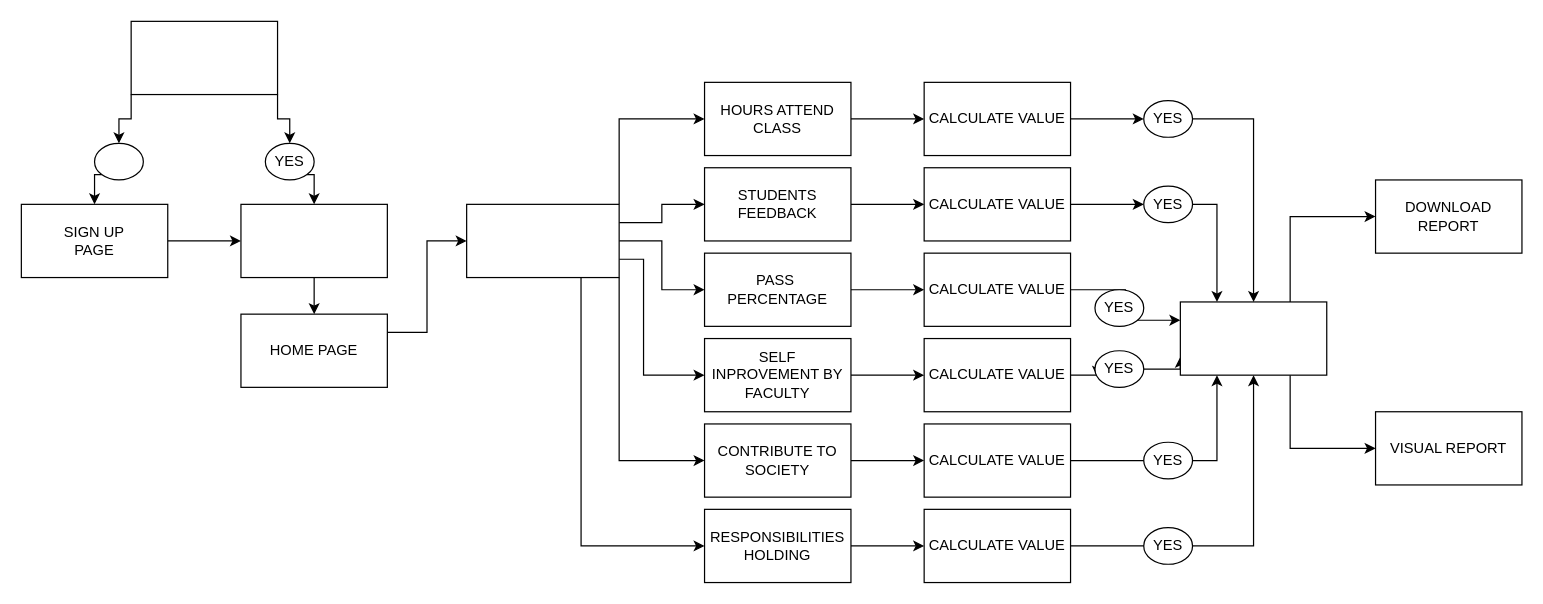
This 1543x604 diagram has some shape labels left out. Here are the shapes that lost their labels. From the top down, the centre of each, then its label:
At pixel 204 57: "LOGIN PAGE".
At pixel 118 161: "NO".
At pixel 313 240: "SIGN IN PAGE".
At pixel 542 240: "INPUT FROM EXCEL".
At pixel 1253 338: "CALCULATE TOTAL VALUE".
